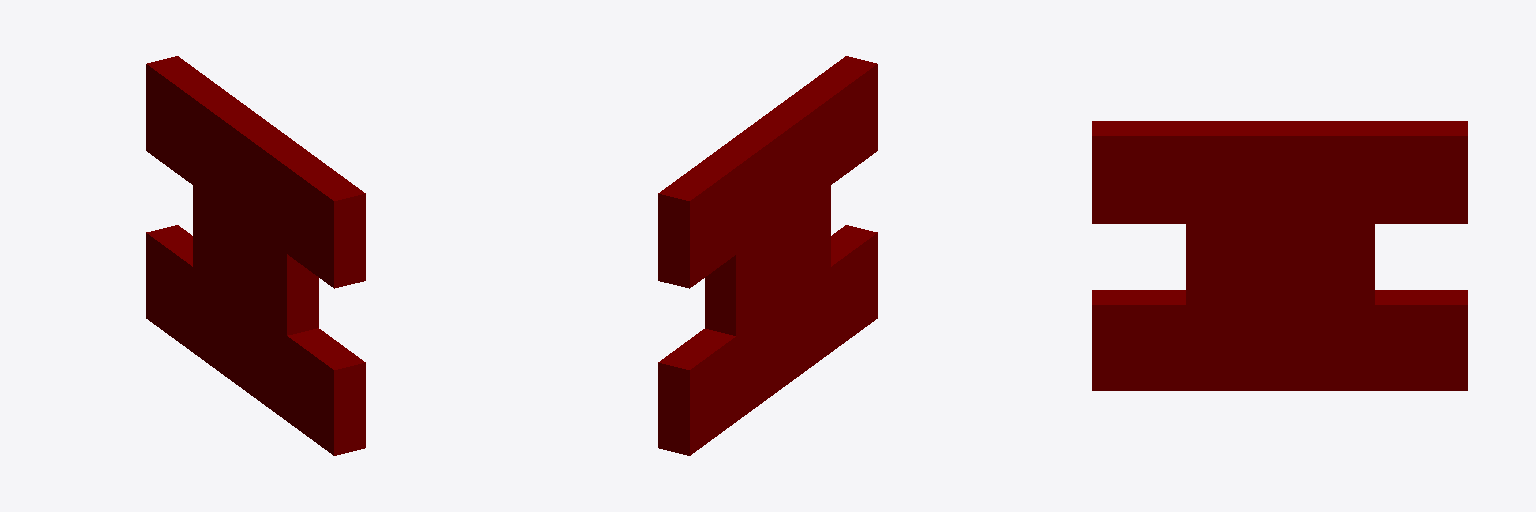
The model's file is Fence.obj.
3 views of the same model, side by side, from view 1: azimuth 30°, elevation 25°; view 2: azimuth 150°, elevation 25°; view 3: azimuth 270°, elevation 25° (orthographic).
Visible parts, largest first — view 1: Fence; view 2: Fence; view 3: Fence.
Boxes of the visible parts, x1,y1,x2,y2 form: Fence: [146, 56, 365, 455]; Fence: [658, 56, 877, 455]; Fence: [1092, 121, 1467, 390].
Size of the model in its own units: 0.0981 by 0.752 by 1.01.